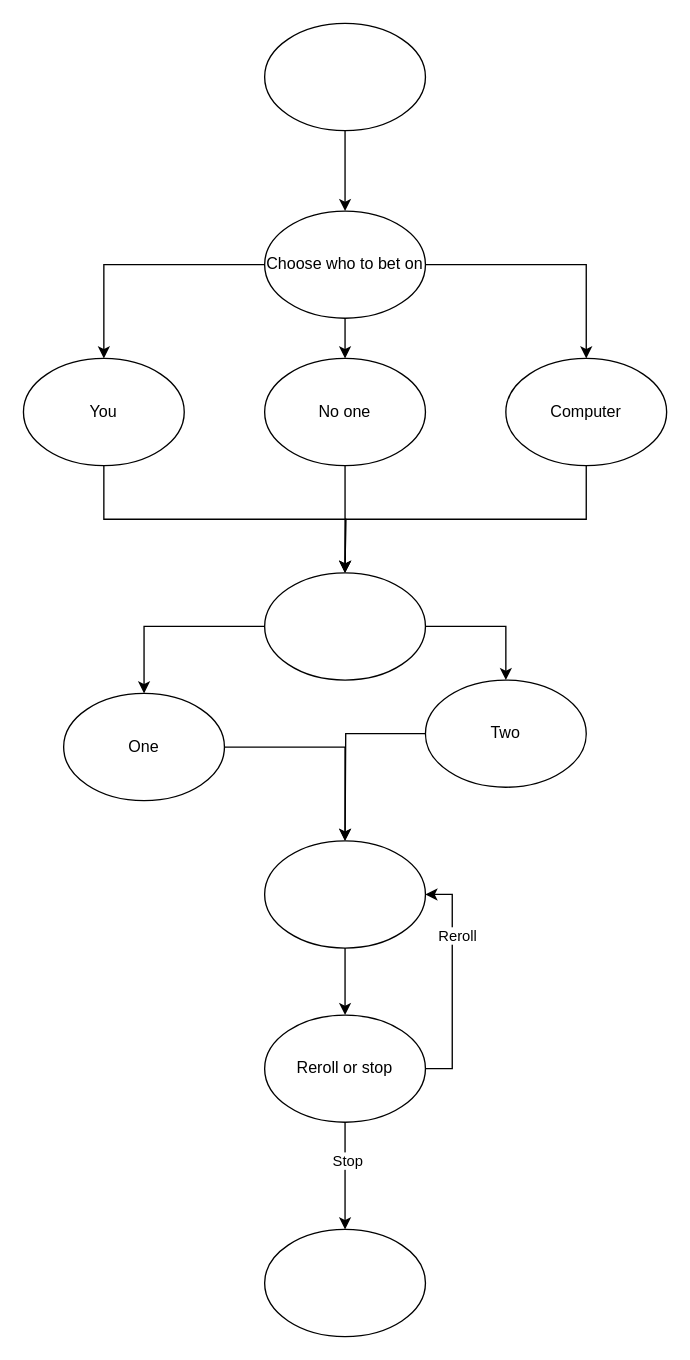
The diagram is 690 pixels wide and 1360 high, and some of its shapes have lost their labels. The shapes that lost their labels are listed below. From the top down, each one's centre as x and y in pixels, then its label:
[344,76]: Start game
[344,626]: One or two dices
[344,894]: Roll dice(s)
[344,1282]: Calculate score and end game
